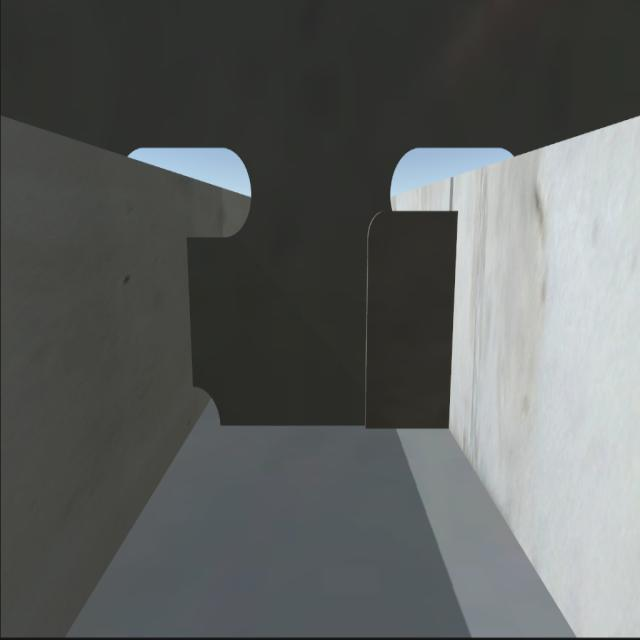fillet_hole: (192, 384, 222, 432)
fillet_yong_jeop_jang: (215, 419, 448, 437)
longi_yong_jeop_jang: (442, 211, 462, 430), (182, 240, 204, 388)
plate_CP05: (364, 206, 454, 428)
